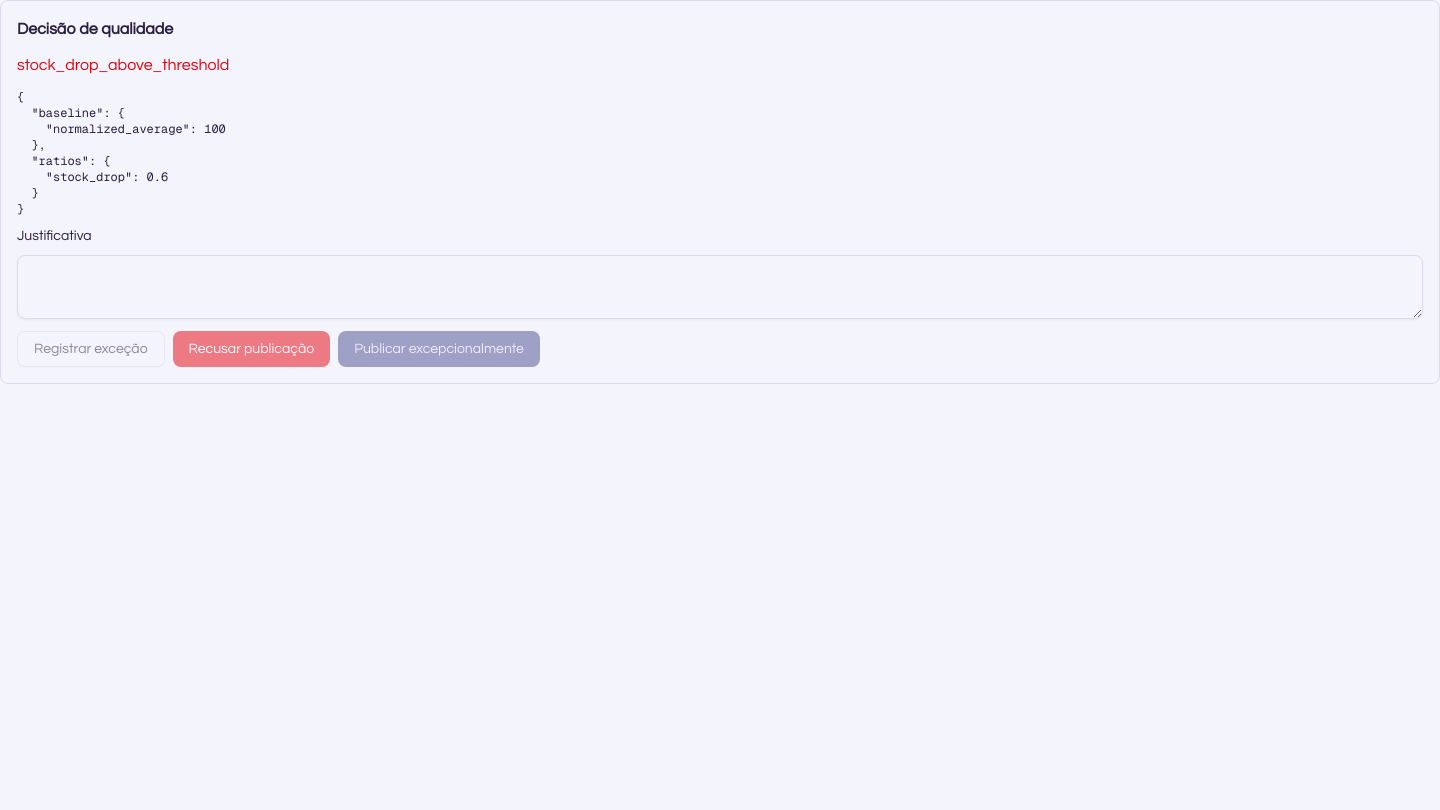
Test case: ExceptionalPublicationPanel › lets the operator refuse publication and preserves the decision
Type "Os dados não possuem nenhum anúncio válido para publicação." into the text box labelled "Justificativa" at x=720, y=287, box left=17, top=255, right=1423, bottom=319
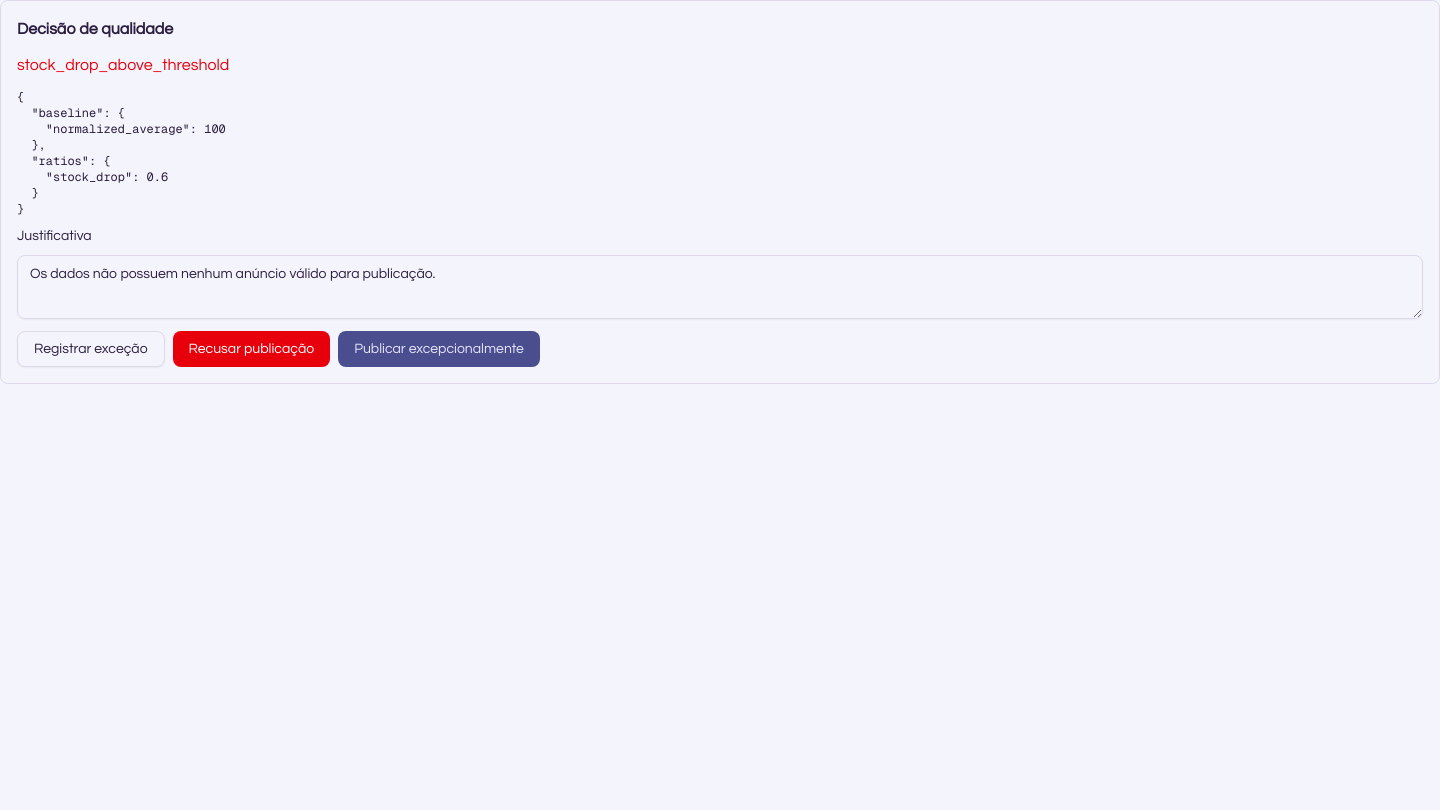
Click the button "Recusar publicação" at x=251, y=349, box left=173, top=331, right=330, bottom=367
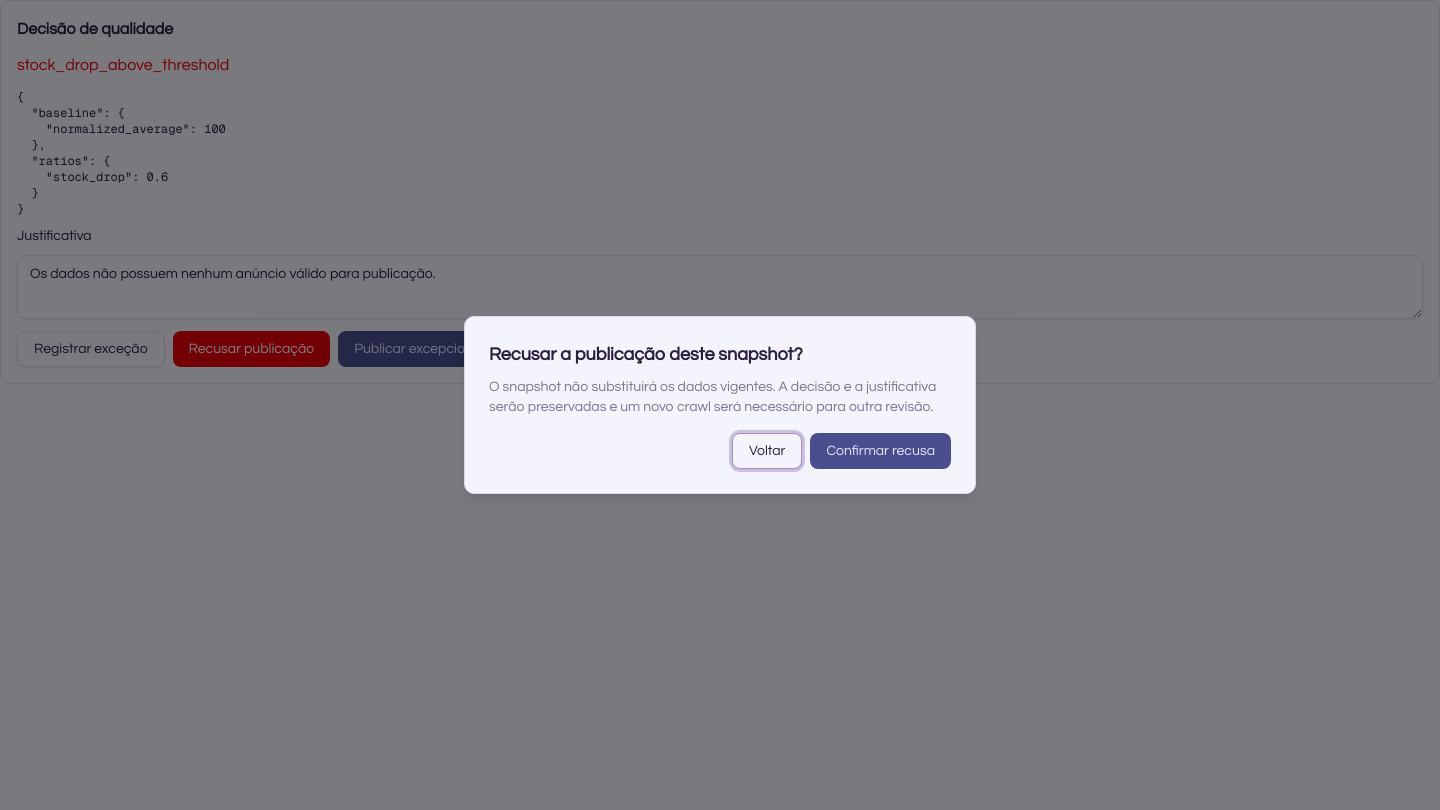
Click the button "Confirmar recusa" at x=881, y=451, box left=810, top=433, right=951, bottom=469
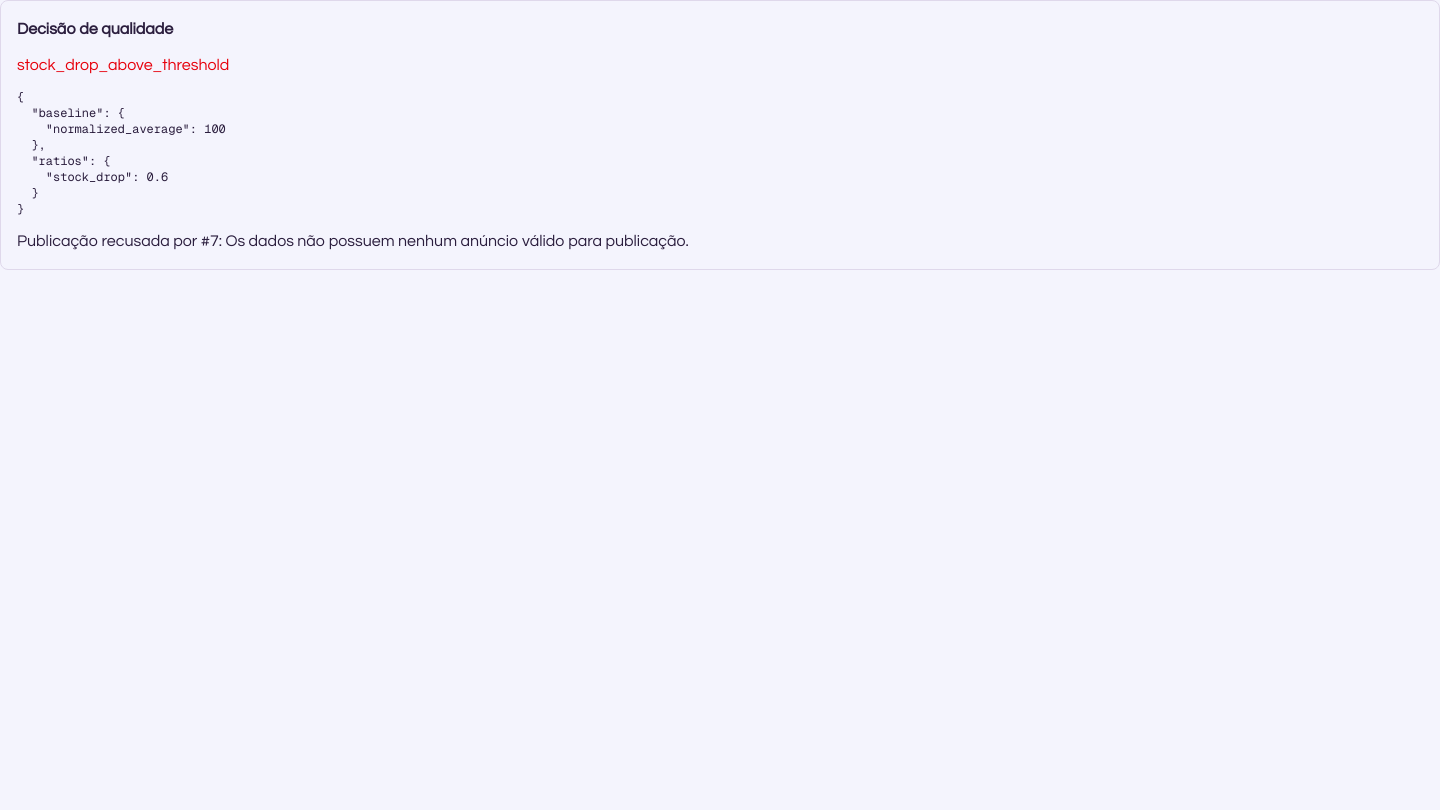
Result: the text "Publicação recusada por #7" is shown at left=17, top=233, right=689, bottom=249
Result: the button "Publicar excepcionalmente" is gone
